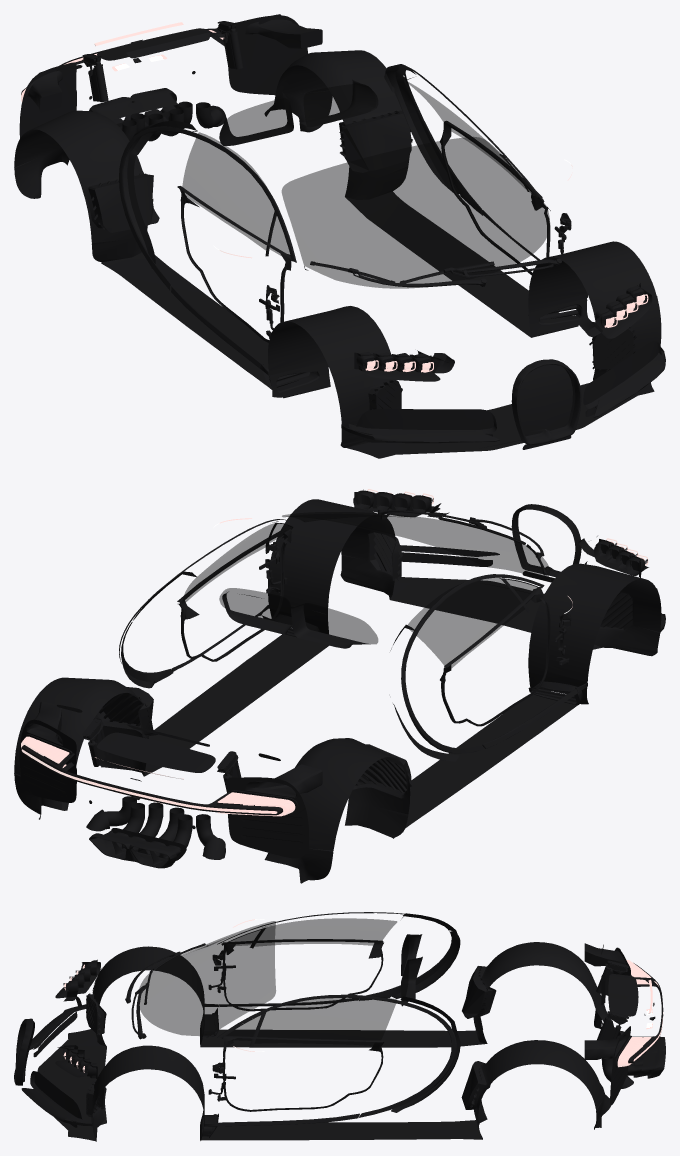
File: bugotti_chiron.fbx
3 views of the same model, one above another, from view 1: azimuth 30°, elevation 25°; view 2: azimuth 150°, elevation 25°; view 3: azimuth 270°, elevation 25° (orthographic). The views are drawn at different scales.
Parts seen in each view (by area): view 1: Body_ChironMI_Exhaust1, SeeThrough_ChironMI_Glass1, Body_ChironMI_Light1; view 2: Body_ChironMI_Exhaust1, SeeThrough_ChironMI_Glass1, Body_ChironMI_Light1; view 3: Body_ChironMI_Exhaust1, SeeThrough_ChironMI_Glass1, Body_ChironMI_Light1.
Boxes of the visible parts, box(x1,y1,x2,y2) form: Body_ChironMI_Exhaust1: box(14, 14, 665, 458); SeeThrough_ChironMI_Glass1: box(95, 45, 549, 288); Body_ChironMI_Light1: box(21, 22, 648, 372); Body_ChironMI_Exhaust1: box(14, 489, 665, 883); SeeThrough_ChironMI_Glass1: box(96, 512, 549, 779); Body_ChironMI_Light1: box(21, 489, 648, 816); Body_ChironMI_Exhaust1: box(14, 912, 665, 1141); SeeThrough_ChironMI_Glass1: box(138, 918, 649, 1045); Body_ChironMI_Light1: box(63, 919, 663, 1072).
Bounding box in the file's own units: 219 × 104 × 455.
